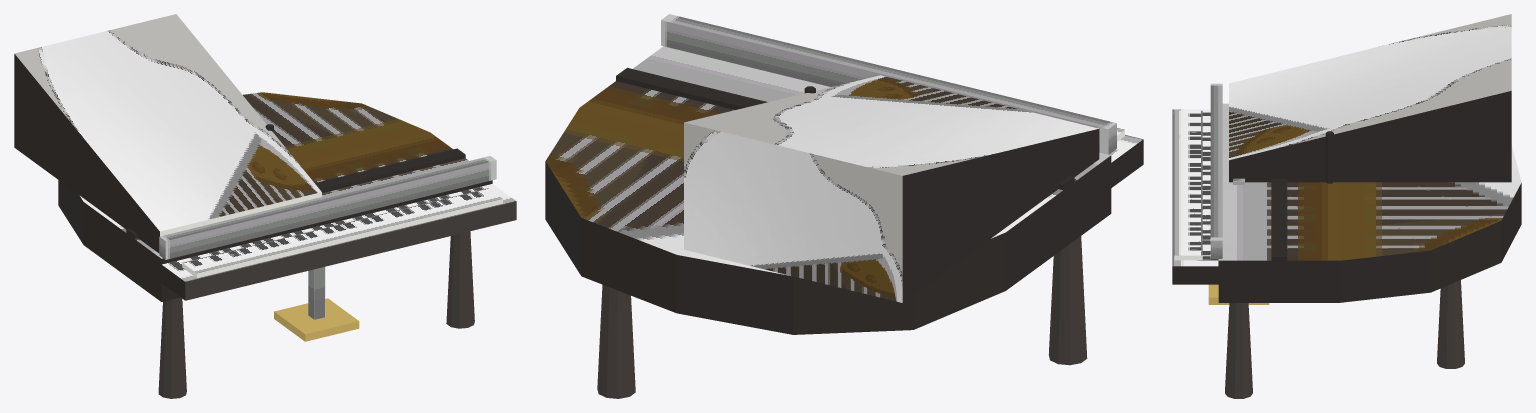
File: Building_Piano.glb
3 views of the same model, side by side, from view 1: azimuth 30°, elevation 25°; view 2: azimuth 150°, elevation 25°; view 3: azimuth 270°, elevation 25° (orthographic). The views are drawn at different scales.
Visible parts, largest first — view 1: Piano; view 2: Piano; view 3: Piano.
Boxes of the visible parts, bbox=[...] form: Piano: bbox=[14, 14, 516, 398]; Piano: bbox=[545, 14, 1143, 398]; Piano: bbox=[1172, 14, 1521, 398].
Bounding box in the file's own units: 1.84 × 1.28 × 1.73.
Materials: 1 (1 with a texture image).
